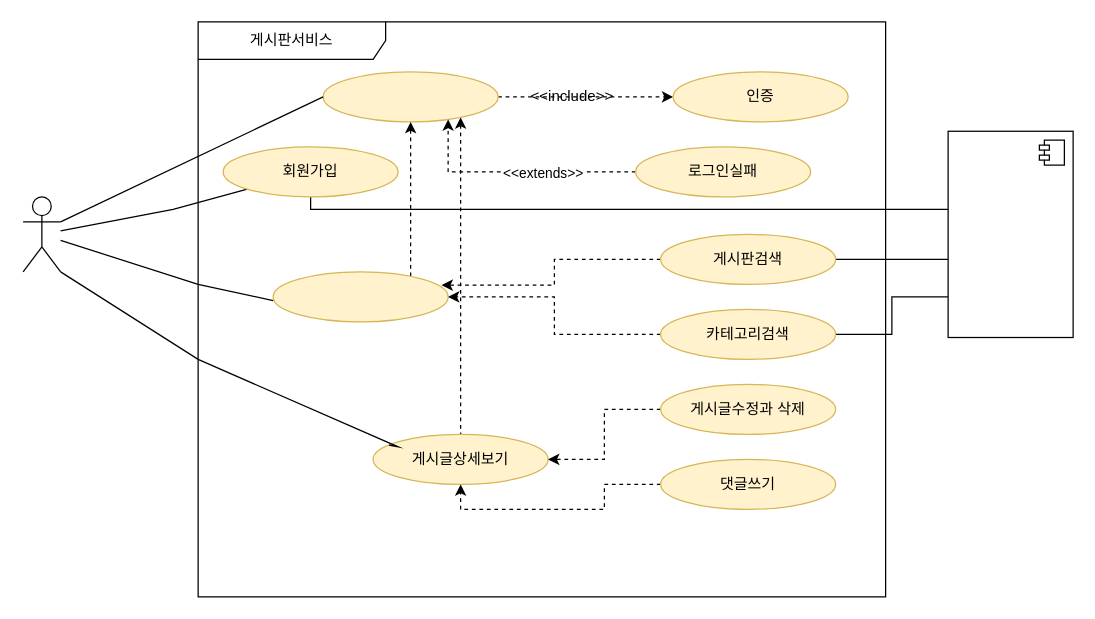
Image size: 1095x619. Some labels were removed from this diagram. Here are the shapes that lost their labels. From the top down, the centre of each, then its label:
At [410,96]: "로그인".
At [41,234]: "이용자".
At [1010,234]: "DBMS".
At [360,296]: "게시글목록보기".
